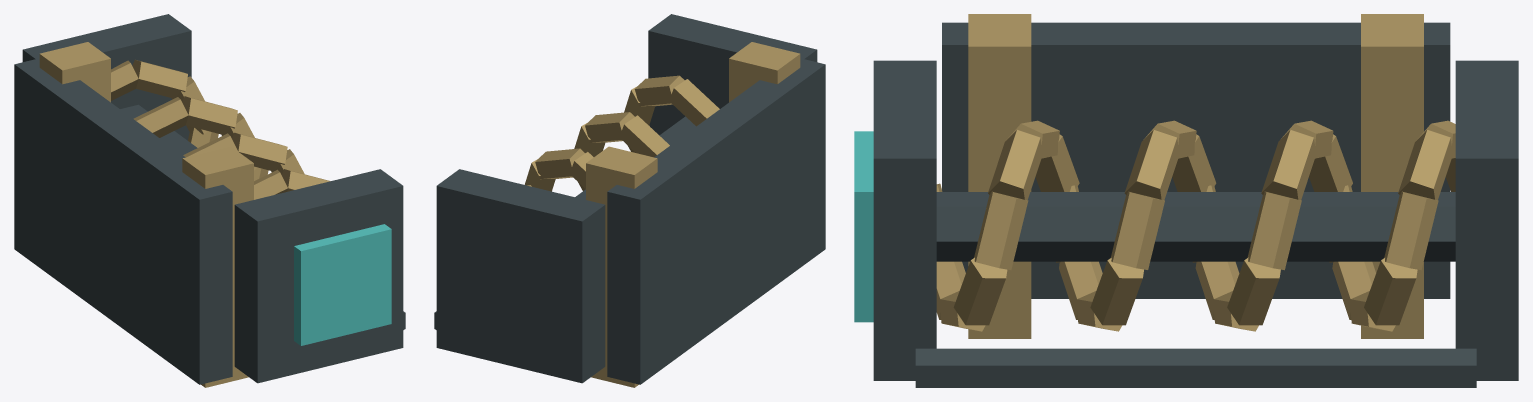
Rendered from Socket_741.fbx.
The picture shows the model from 3 angles, left to right: view 1: azimuth 30°, elevation 25°; view 2: azimuth 150°, elevation 25°; view 3: azimuth 270°, elevation 25°; orthographic projection. The views are drawn at different scales.
Visible parts, largest first — view 1: Socket_741; view 2: Socket_741; view 3: Socket_741.
Boxes of the visible parts, left/top/right/bottom form: Socket_741: left=14, top=14, right=405, bottom=387; Socket_741: left=434, top=14, right=825, bottom=387; Socket_741: left=854, top=14, right=1518, bottom=387.
Bounding box in the file's own units: 0.0889 × 0.092 × 0.1895.
